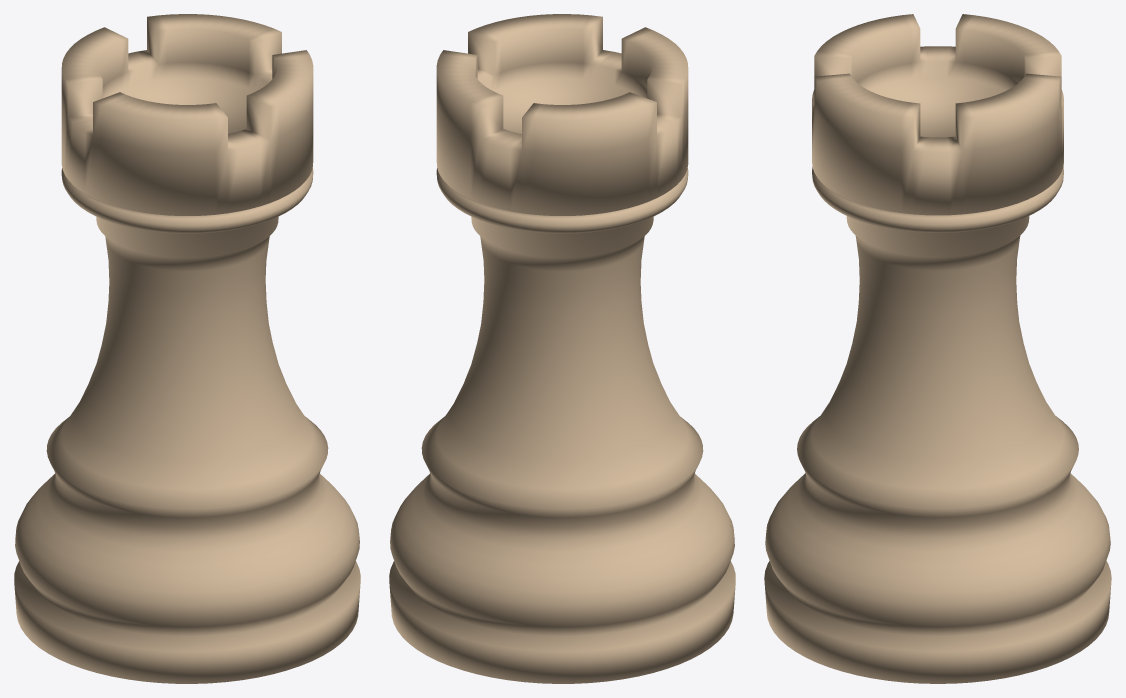
Rendered from rook.glb.
3 views of the same model, side by side, from view 1: azimuth 30°, elevation 25°; view 2: azimuth 150°, elevation 25°; view 3: azimuth 270°, elevation 25° (orthographic).
Visible parts, largest first — view 1: White Rook A1; view 2: White Rook A1; view 3: White Rook A1.
Boxes of the visible parts, box(x1,y1,x2,y2) form: White Rook A1: box(14, 14, 360, 683); White Rook A1: box(389, 14, 735, 683); White Rook A1: box(764, 14, 1111, 683).
Size of the model in its own units: 0.1475 by 0.2555 by 0.1475.
